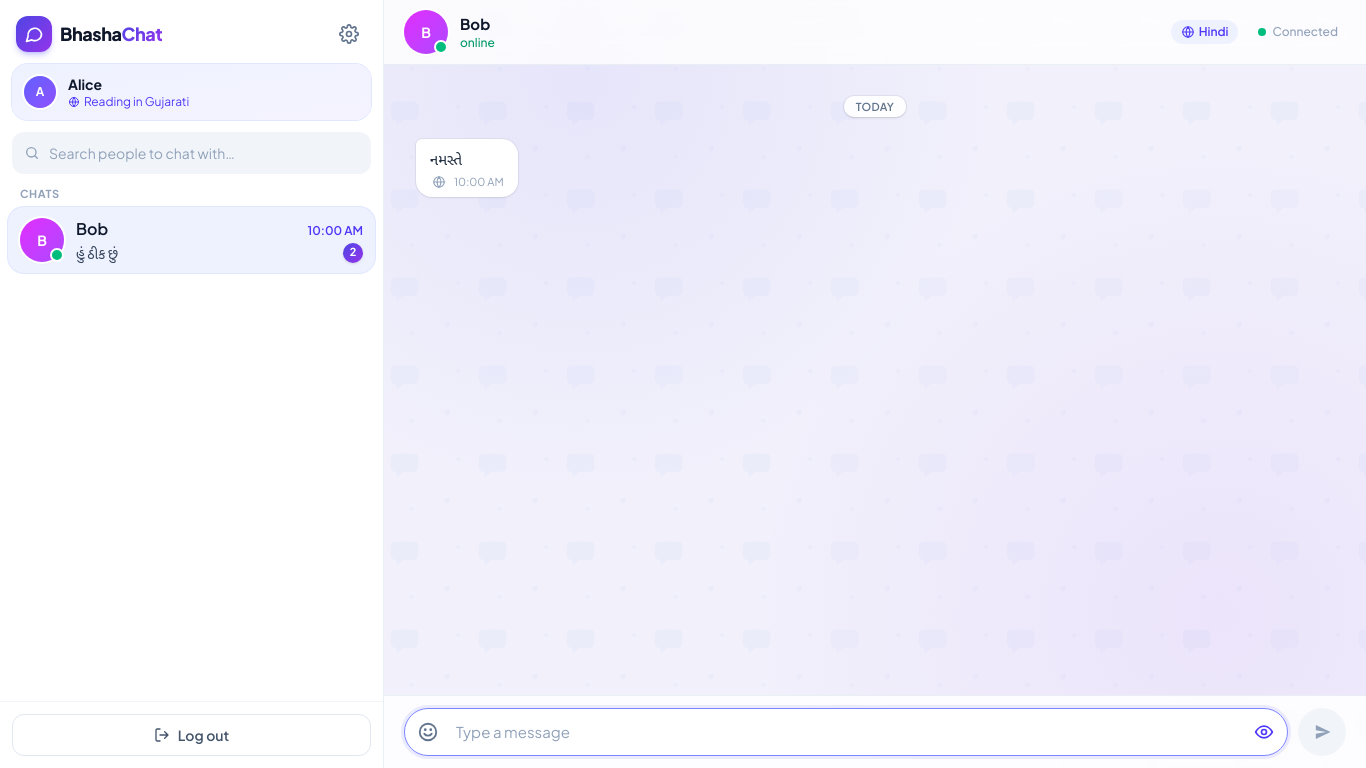
Scenario: messenger › renders history and sends a message from the composer
Expected: the text "નમસ્તે" is shown, [430,149,462,168]
Type "કેમ છો?" into the text box labelled "message" at (846,732), box [452,714,1240,750]
Then press Enter
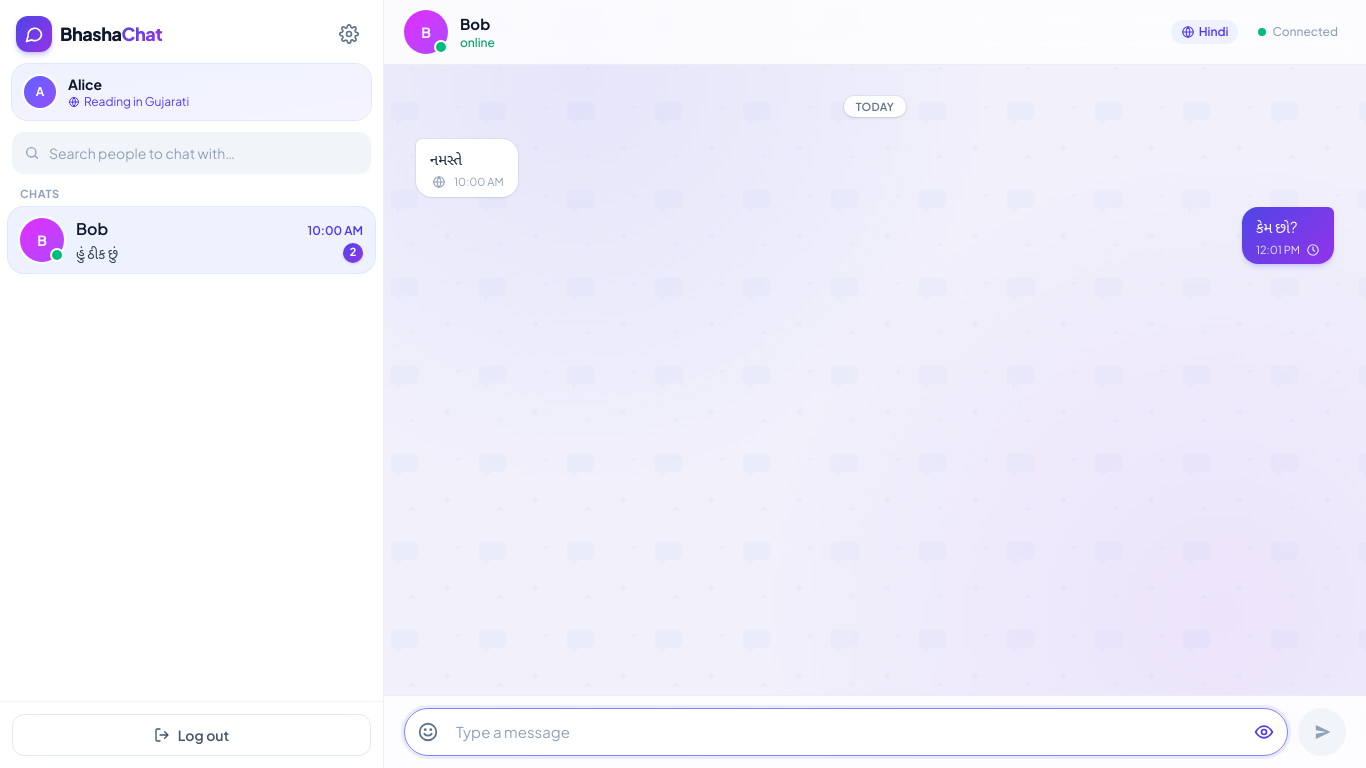
Expected: the text "કેમ છો?" is shown, [1256,217,1298,236]
Expected: the picture named "sending" is shown, [1306,243,1320,257]
